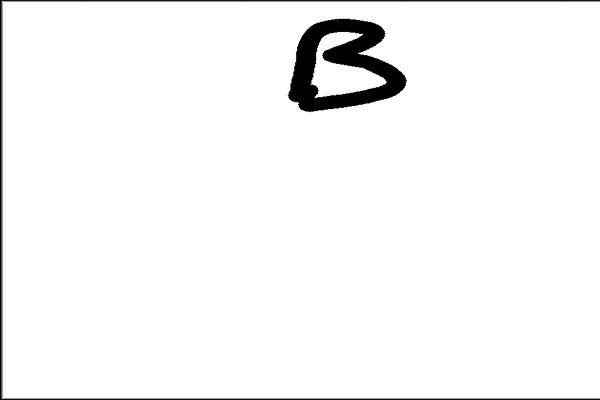B: (279, 11, 432, 122)
